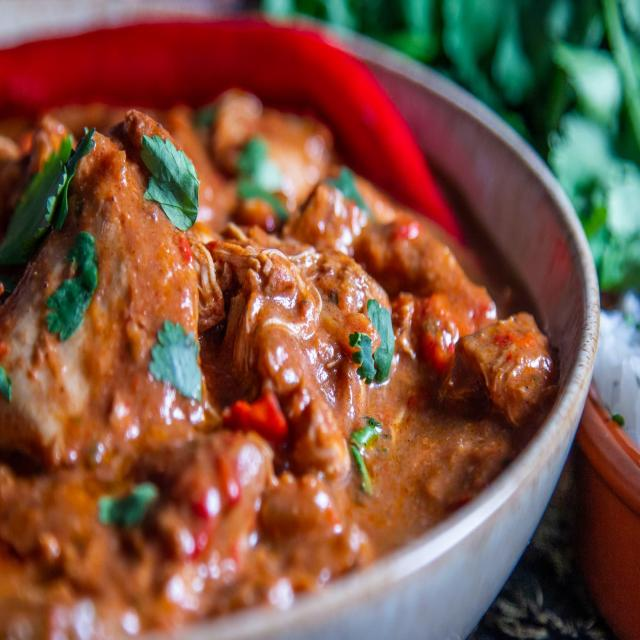chicken: (1, 26, 569, 640)
